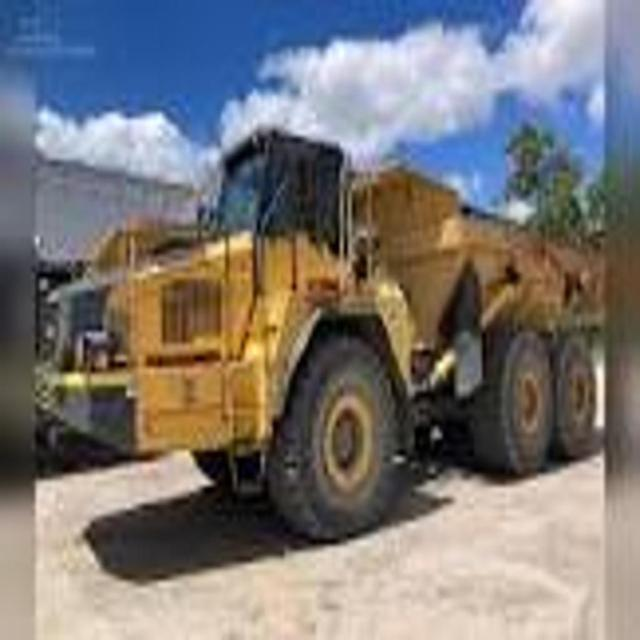dump_truck: (31, 117, 603, 544)
